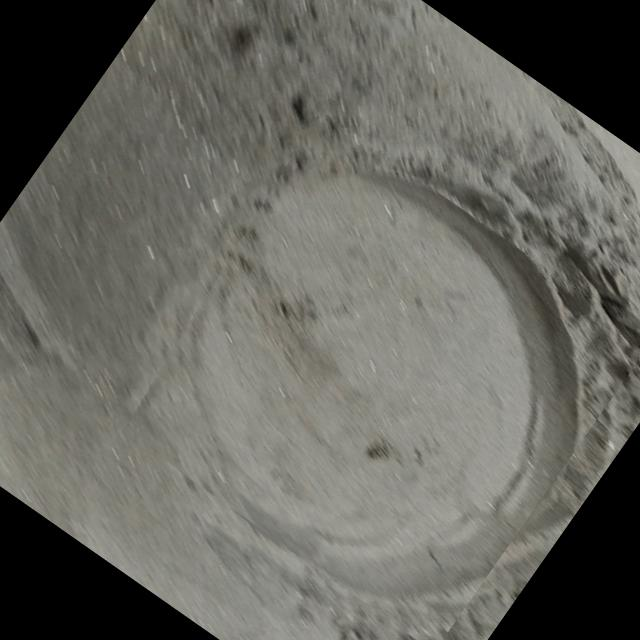C40: (188, 175, 575, 593)
